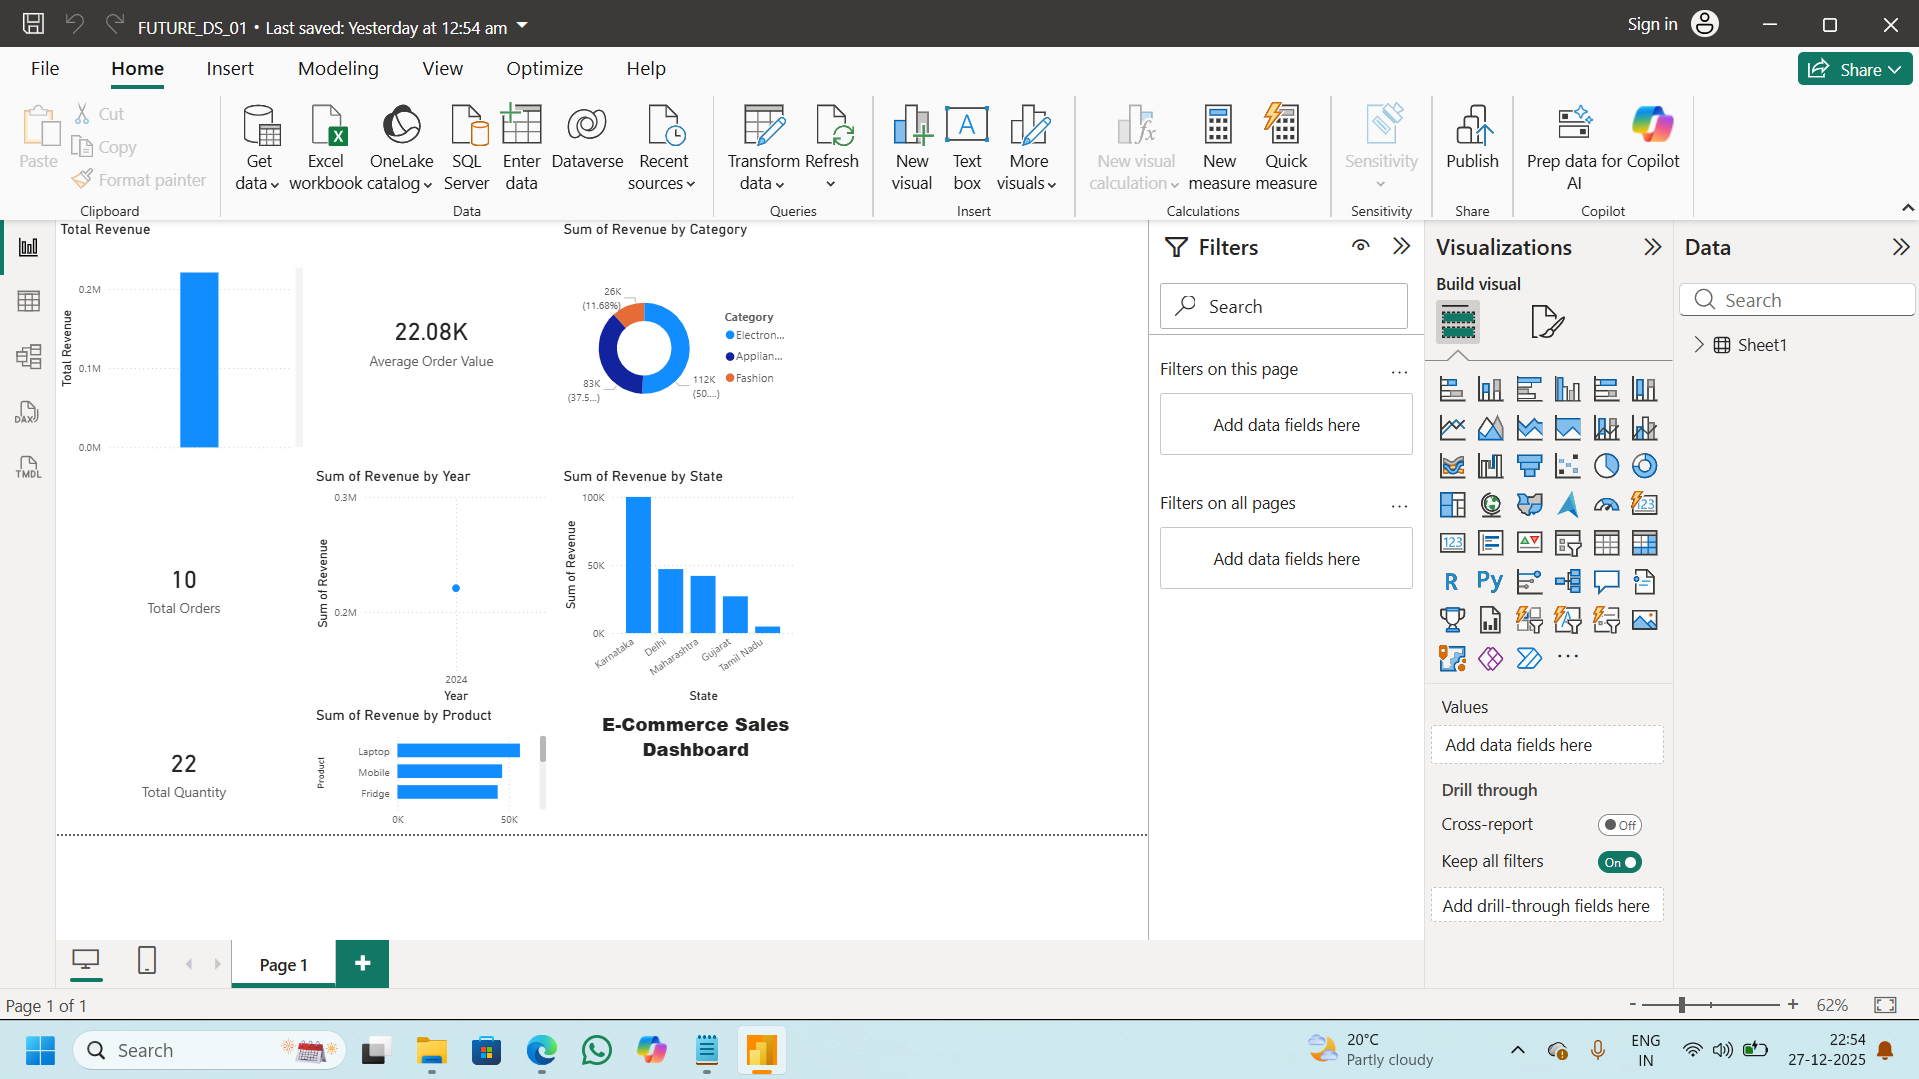

Layout of this report page (visuals, bound fields, positions):
{"tool":"powerbi","page":{"name":"Page 1","canvas":[1280,720],"ordinal":0},"visuals":[{"type":"card","box":[10,0,280,280],"z":0},{"type":"clusteredColumnChart","fields":{"Y":["Sheet1.Total Revenue"]},"box":[0,0,280.4,280.4],"z":1000},{"type":"card","fields":{"Values":["Sheet1.Total Orders"]},"box":[10,290,280,280],"z":2000},{"type":"card","fields":{"Values":["Sheet1.Total Quantity"]},"box":[10,570,280,150],"z":3000},{"type":"card","fields":{"Values":["Sheet1.Average Order Value"]},"box":[300,0,280,280],"z":4000},{"type":"lineChart","fields":{"Category":["Sheet1.Date.Variation.Date Hierarchy.Year","Sheet1.Date.Variation.Date Hierarchy.Quarter","Sheet1.Date.Variation.Date Hierarchy.Month","Sheet1.Date.Variation.Date Hierarchy.Day"],"Y":["Sum(Sheet1.Revenue)"]},"box":[300,290,280,280],"z":5000},{"type":"clusteredBarChart","fields":{"Category":["Sheet1.Product"],"Y":["Sum(Sheet1.Revenue)"]},"box":[300,570,280,150],"z":6000},{"type":"donutChart","fields":{"Category":["Sheet1.Category"],"Y":["Sum(Sheet1.Revenue)"]},"box":[590,0,280,280],"z":7000},{"type":"clusteredColumnChart","fields":{"Category":["Sheet1.State"],"Y":["Sum(Sheet1.Revenue)"]},"box":[590,290,280,280],"z":8000},{"type":"textbox","box":[590,570,280,150],"z":9000}]}

Visuals, with their boxes on the page's 1280x720 design canvas (x1, y1, x2, y2). These are canvas units, not pixel positions in the 1919x1079 screenshot, which may show the page scaled, cropped or inside an application window:
card: (x1=10, y1=0, x2=290, y2=280)
clusteredColumnChart - Sheet1.Total Revenue: (x1=0, y1=0, x2=280, y2=280)
card - Sheet1.Total Orders: (x1=10, y1=290, x2=290, y2=570)
card - Sheet1.Total Quantity: (x1=10, y1=570, x2=290, y2=720)
card - Sheet1.Average Order Value: (x1=300, y1=0, x2=580, y2=280)
lineChart - Sheet1.Date.Variation.Date Hierarchy.Year x Sheet1.Date.Variation.Date Hierarchy.Quarter: (x1=300, y1=290, x2=580, y2=570)
clusteredBarChart - Sheet1.Product x Sum(Sheet1.Revenue): (x1=300, y1=570, x2=580, y2=720)
donutChart - Sheet1.Category x Sum(Sheet1.Revenue): (x1=590, y1=0, x2=870, y2=280)
clusteredColumnChart - Sheet1.State x Sum(Sheet1.Revenue): (x1=590, y1=290, x2=870, y2=570)
textbox: (x1=590, y1=570, x2=870, y2=720)
